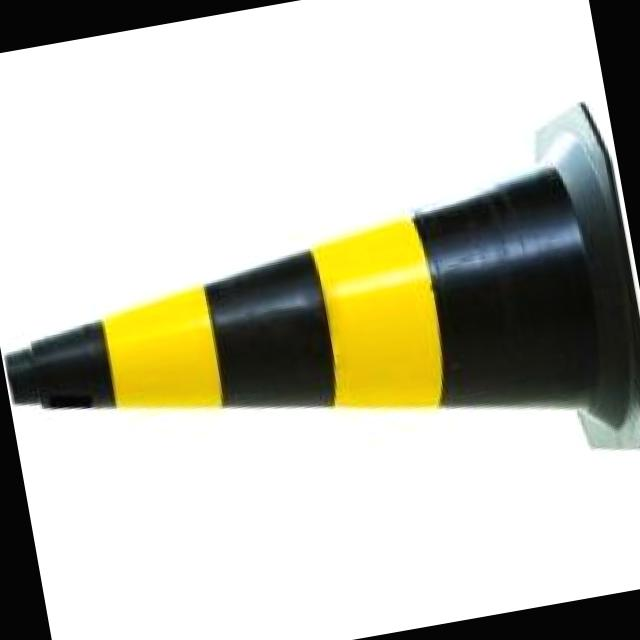cone: (0, 98, 640, 555)
